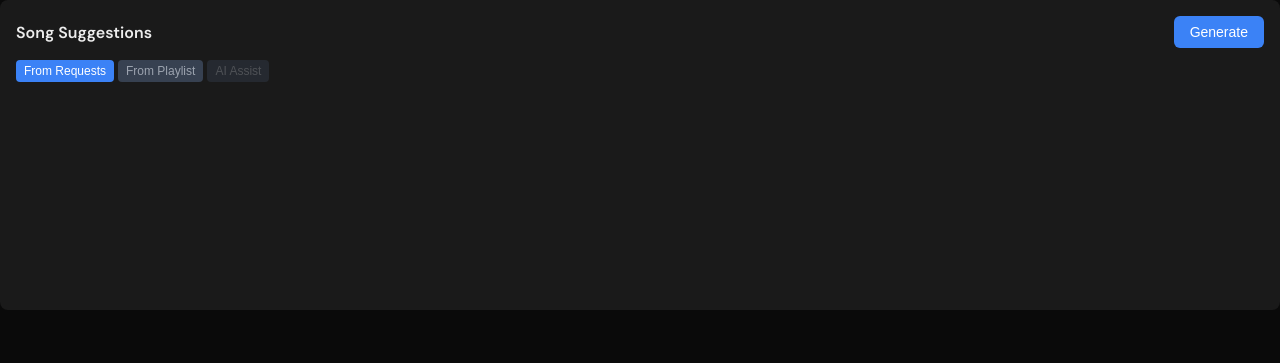
RecommendationsCard › renders suggestion list after generation
This screenshot has width=1280, height=363.
Click the button "Generate" at (1219, 32), box x1=1174 y1=16 x2=1264 y2=48
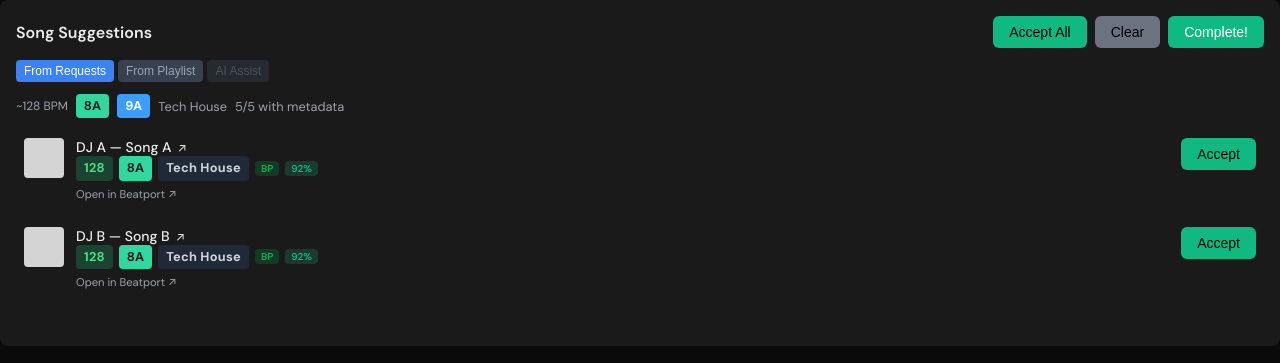
expect the text "DJ A — Song A" is shown: met, box x1=76 y1=138 x2=172 y2=156
expect the text "DJ B — Song B" is shown: met, box x1=76 y1=227 x2=170 y2=245
